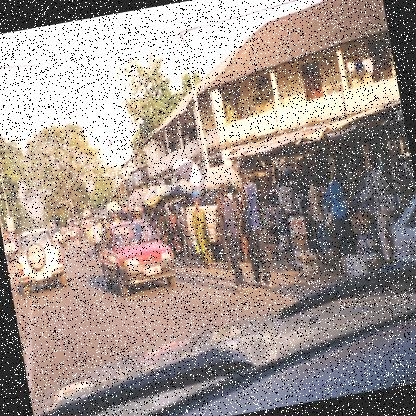Car: (92, 214, 180, 302), (10, 224, 68, 296), (47, 226, 69, 250)
